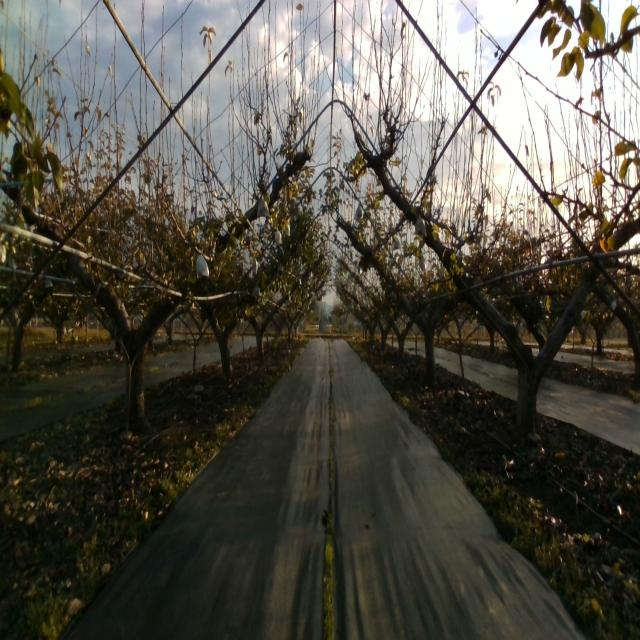pearbags: (196, 253, 209, 280), (413, 214, 427, 238), (257, 194, 270, 219)
